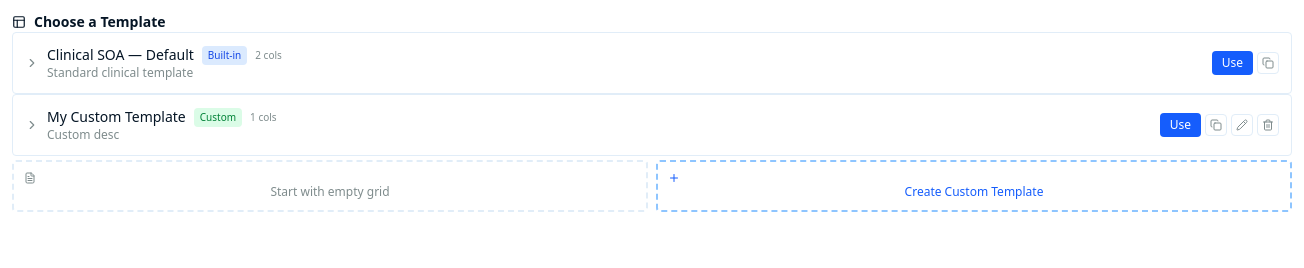
Scenario: TemplateSelector › shows delete confirmation
Click the button with test id "delete-custom-1" at (1268, 125), box [1257,114,1279,136]
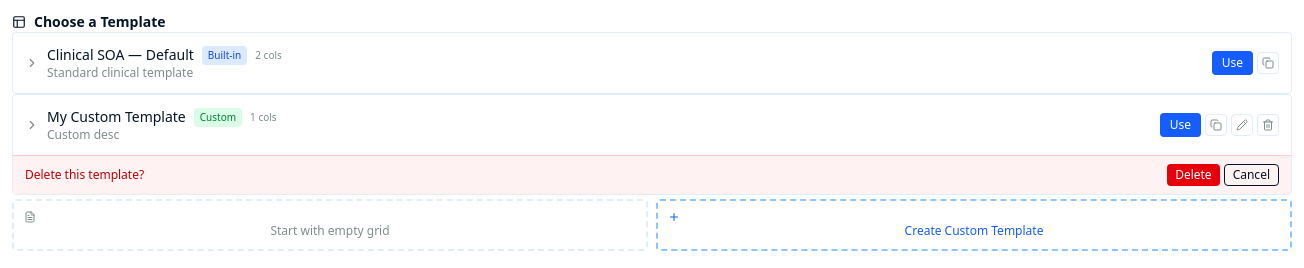
Expected: the element with test id "confirm-delete-custom-1" is shown, [13,155,1291,194]
